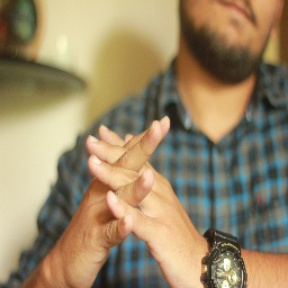W: (73, 107, 185, 265)
